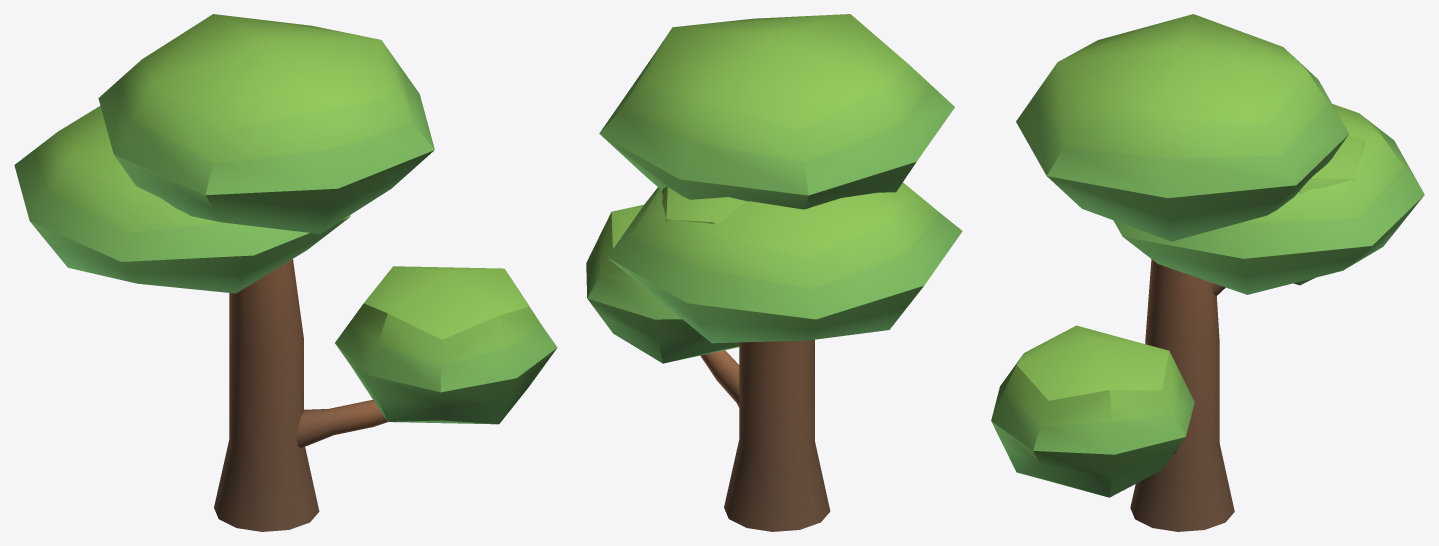
Rendered from Tree1.1.fbx.
3 views of the same model, side by side, from view 1: azimuth 30°, elevation 25°; view 2: azimuth 150°, elevation 25°; view 3: azimuth 270°, elevation 25° (orthographic).
Parts seen in each view (by area): view 1: Tree1_1; view 2: Tree1_1; view 3: Tree1_1.
Boxes of the visible parts, bbox=[...] form: Tree1_1: bbox=[14, 14, 557, 531]; Tree1_1: bbox=[586, 14, 962, 531]; Tree1_1: bbox=[991, 14, 1424, 531].
Bounding box in the file's own units: 121 × 130 × 111.
